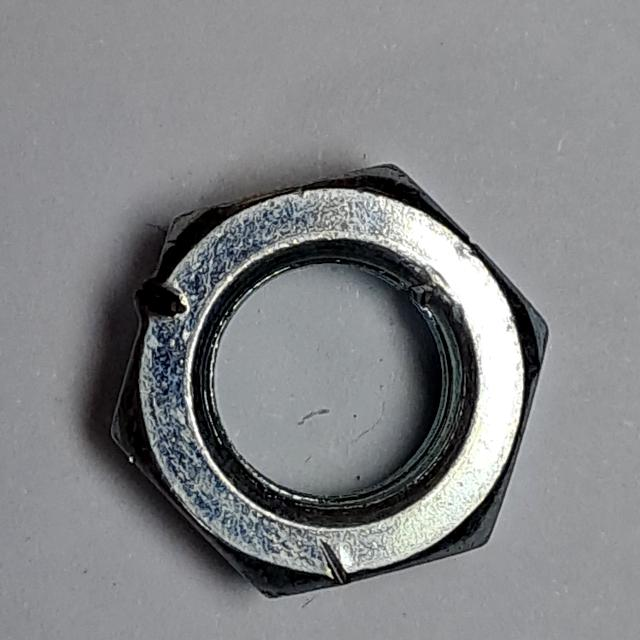Scratches: (104, 147, 561, 612)
